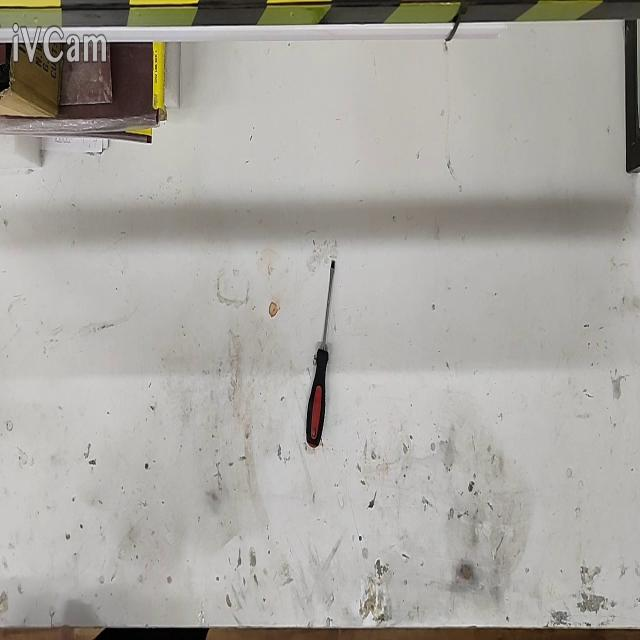Screwdriver: (306, 260, 334, 448)
